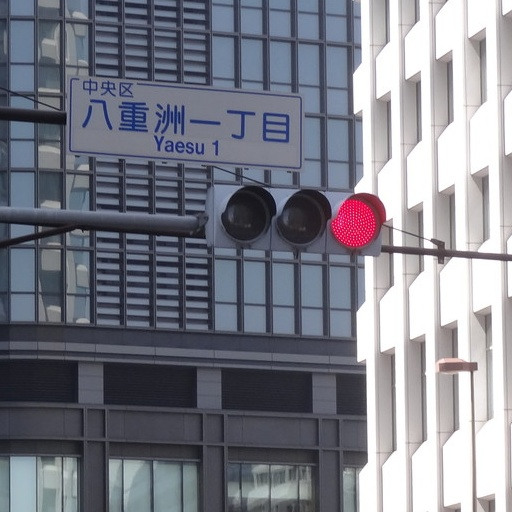Traffic_Signal_Red: (211, 182, 393, 256)
